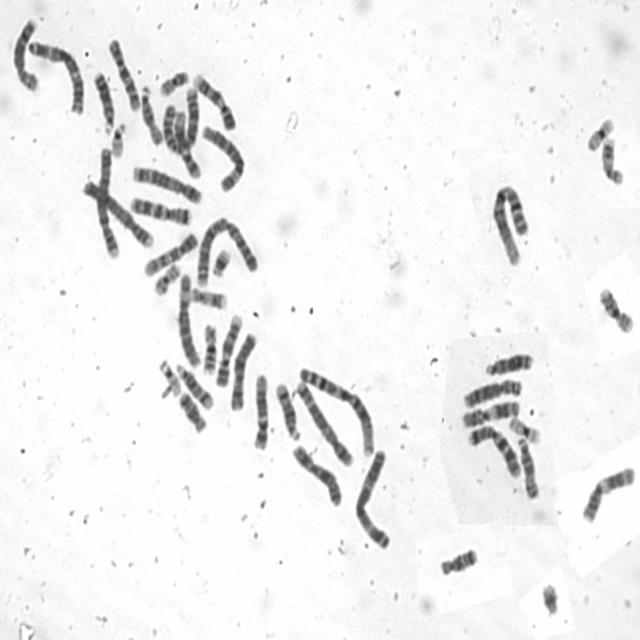A1: (295, 365, 376, 459), (487, 181, 530, 268)
A2: (192, 212, 261, 288), (160, 83, 200, 156)
A3: (27, 37, 86, 117), (352, 446, 392, 550)
B4: (80, 174, 155, 250), (94, 144, 120, 261)
B5: (294, 373, 355, 467), (130, 162, 204, 206)
C10: (140, 227, 200, 280), (105, 34, 142, 114)
C11: (580, 463, 636, 524), (458, 398, 520, 428)
C12: (172, 108, 203, 183), (250, 370, 270, 453)
C6: (198, 122, 246, 194), (175, 270, 202, 369)
C7: (465, 422, 522, 479), (128, 192, 192, 226)
C8: (10, 14, 40, 94), (460, 375, 524, 409)
C9: (191, 71, 237, 133), (213, 311, 244, 388)
D13: (91, 68, 116, 135), (482, 349, 534, 376)
D14: (173, 361, 214, 411), (272, 378, 302, 442)
D15: (514, 434, 540, 501), (138, 82, 164, 146)
E16: (596, 282, 634, 334), (200, 320, 219, 376)
E17: (599, 134, 625, 188), (188, 284, 230, 310)
E18: (176, 388, 208, 434), (437, 544, 479, 576)
F19: (584, 114, 616, 152), (507, 414, 542, 445)
F20: (151, 260, 183, 298), (156, 67, 190, 97)
G21: (538, 578, 560, 618), (210, 245, 233, 279)
G22: (156, 356, 182, 400), (109, 119, 128, 160)
X: (290, 442, 343, 508), (228, 329, 258, 412)
